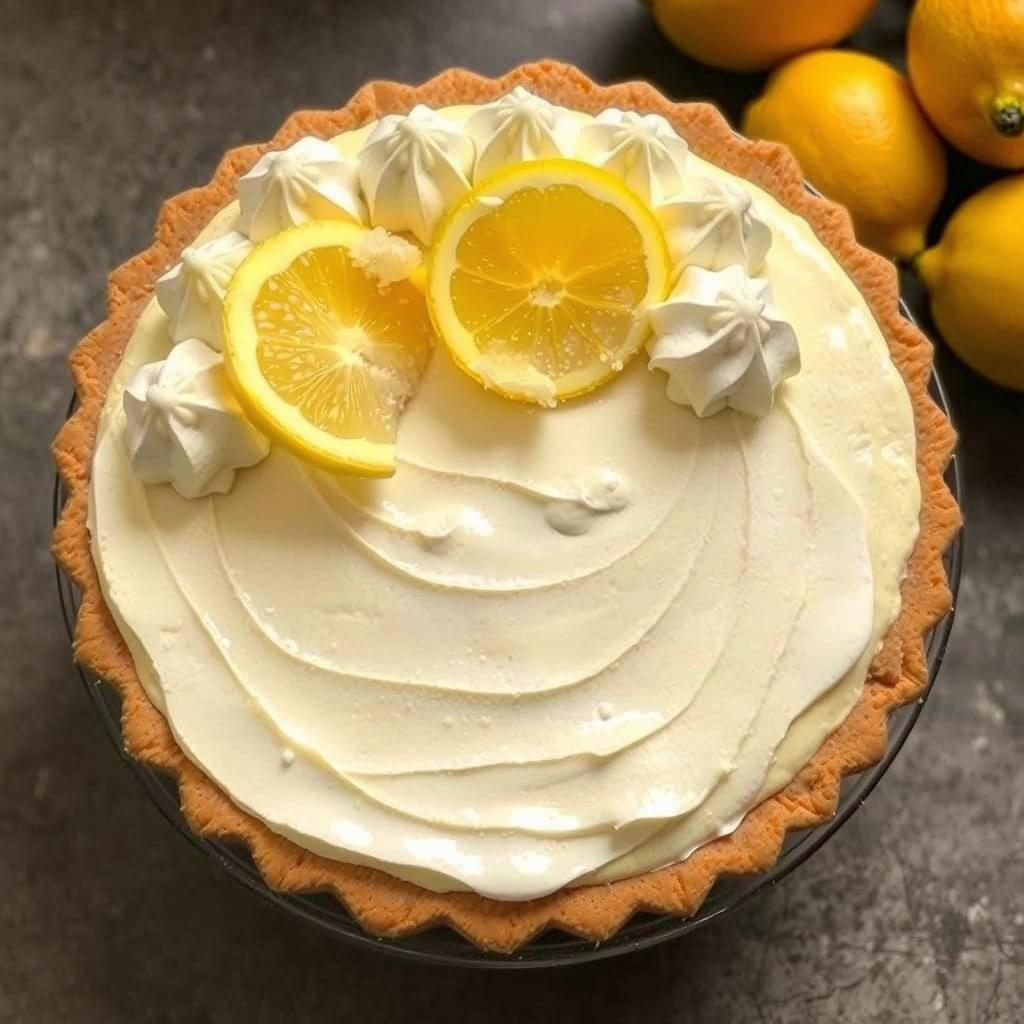cake: (36, 54, 961, 969)
